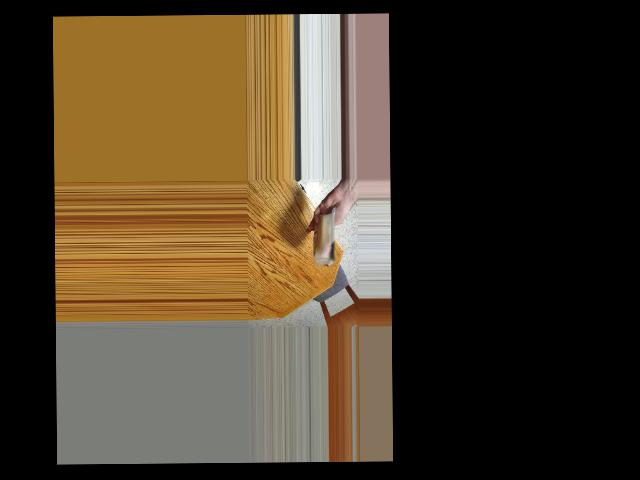cheese: (311, 210, 346, 262)
